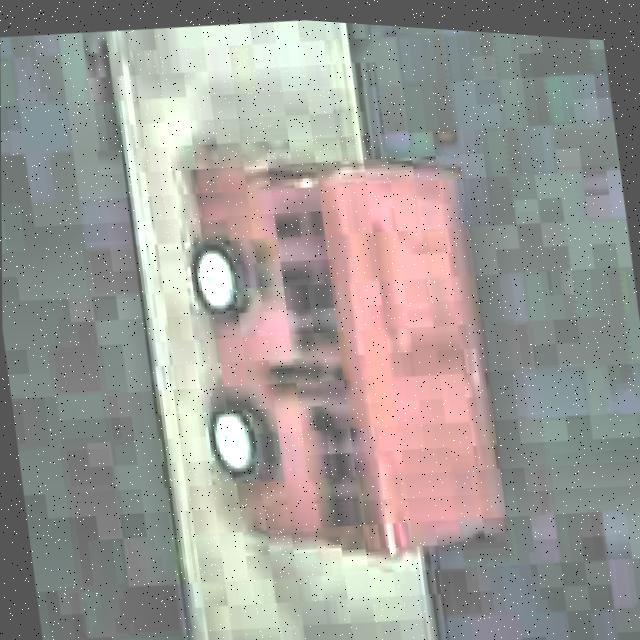bus: (167, 128, 513, 591)
